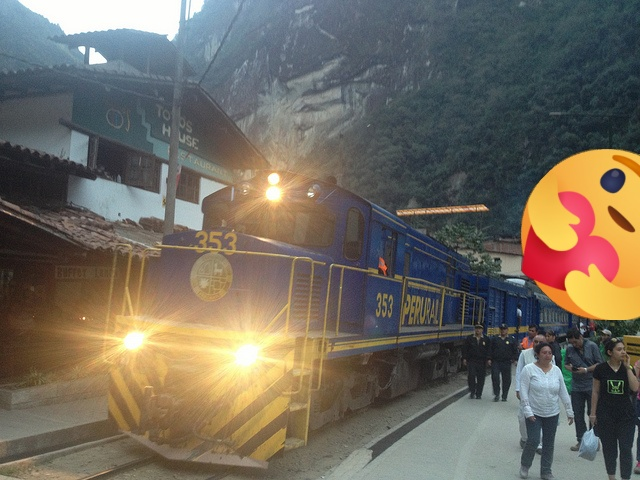care: (521, 149, 640, 320)
